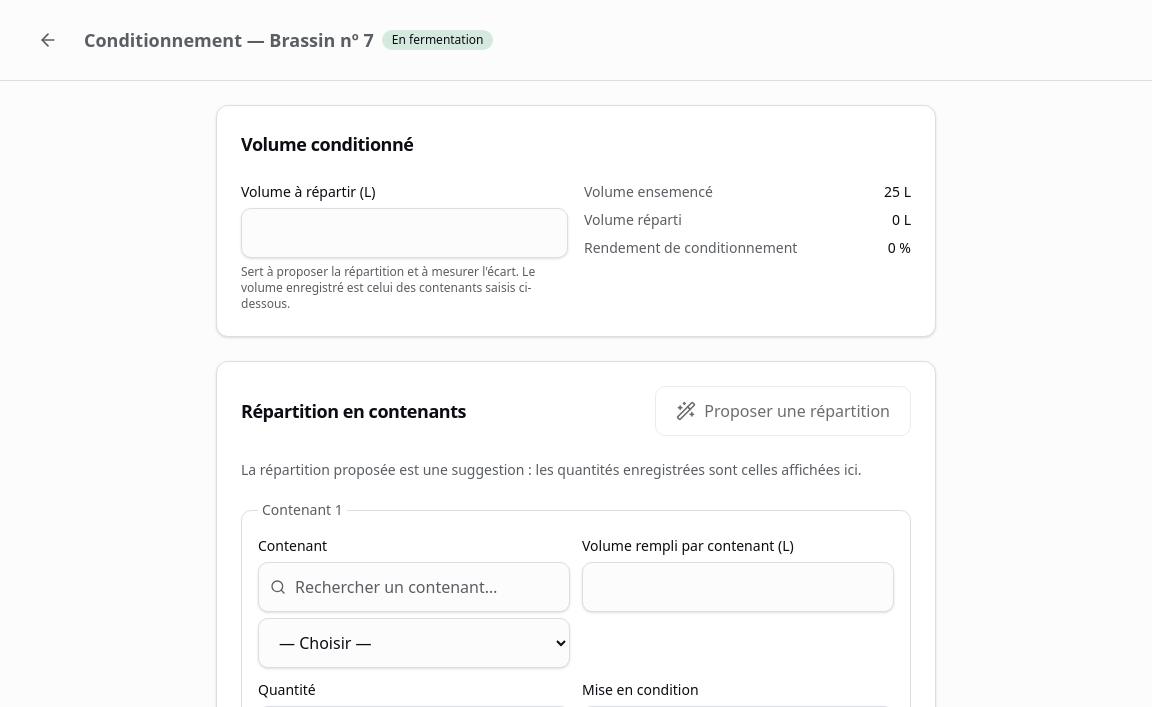
it: écran de conditionnement (M9-13) › répartition en contenants (§B, §C) › propose une répartition — grands contenants d'abord — puis la laisse modifiable
In the number field labelled "Volume à répartir (L)": (404, 233) [241,208,568,258], type "24"
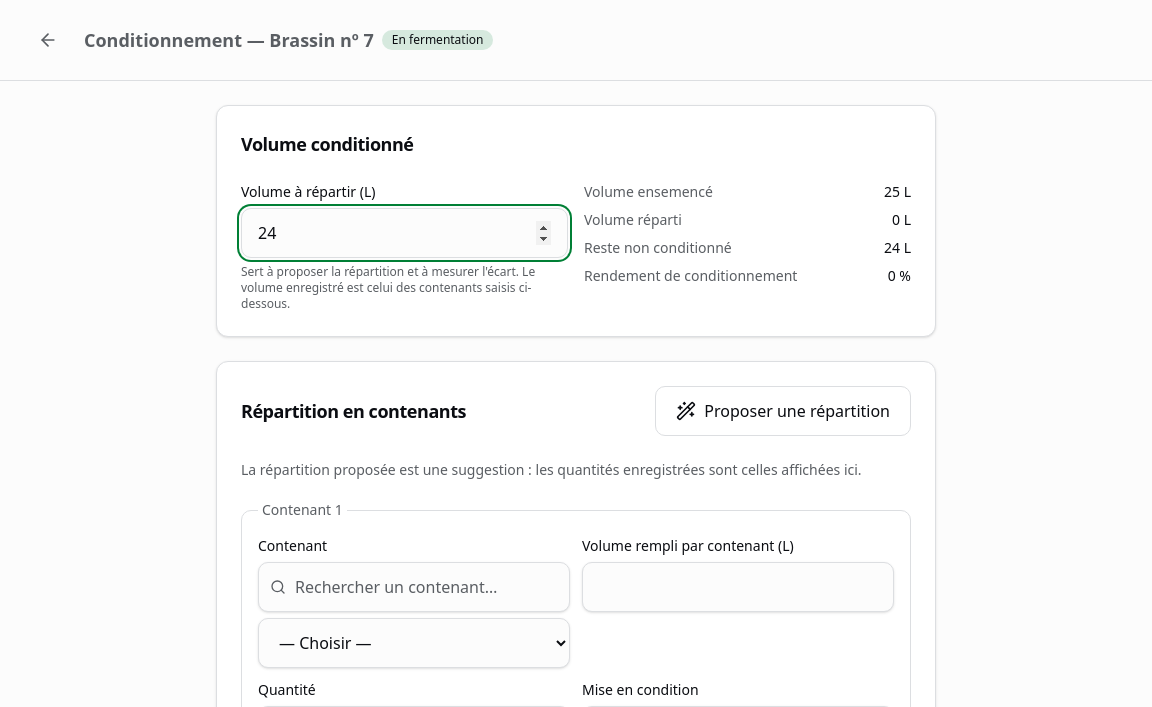
Click the button "Proposer une répartition": (783, 411) [655,386,911,436]
(page scrolled)
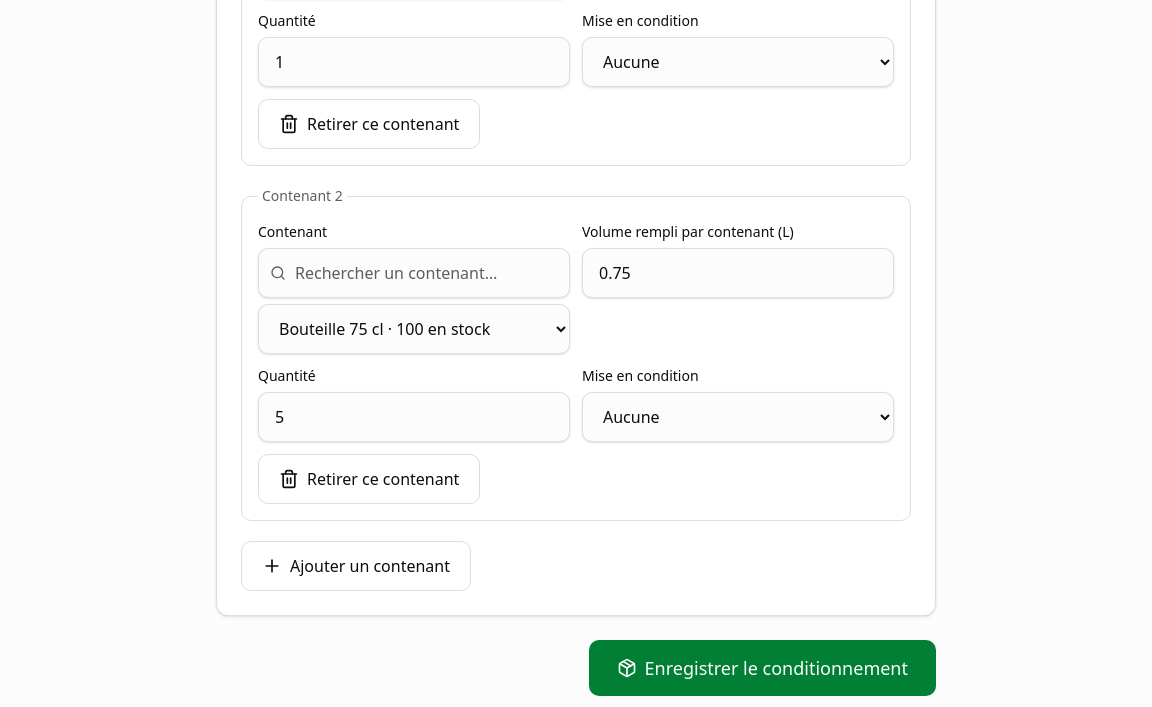
Result: the 1st number field labelled "Quantité" holds "1" at [258,37,570,87]
Result: the number field labelled "Volume rempli par contenant (L)" holds "0.75" at [582,248,894,298]
Result: the 2nd number field labelled "Quantité" holds "5" at [258,392,570,442]
